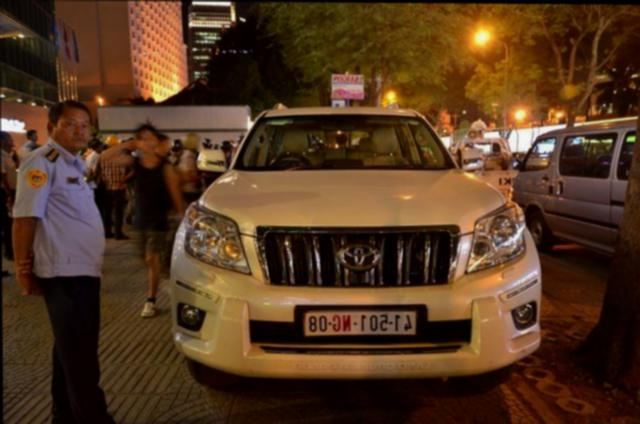License_Plate: (301, 309, 419, 339)
